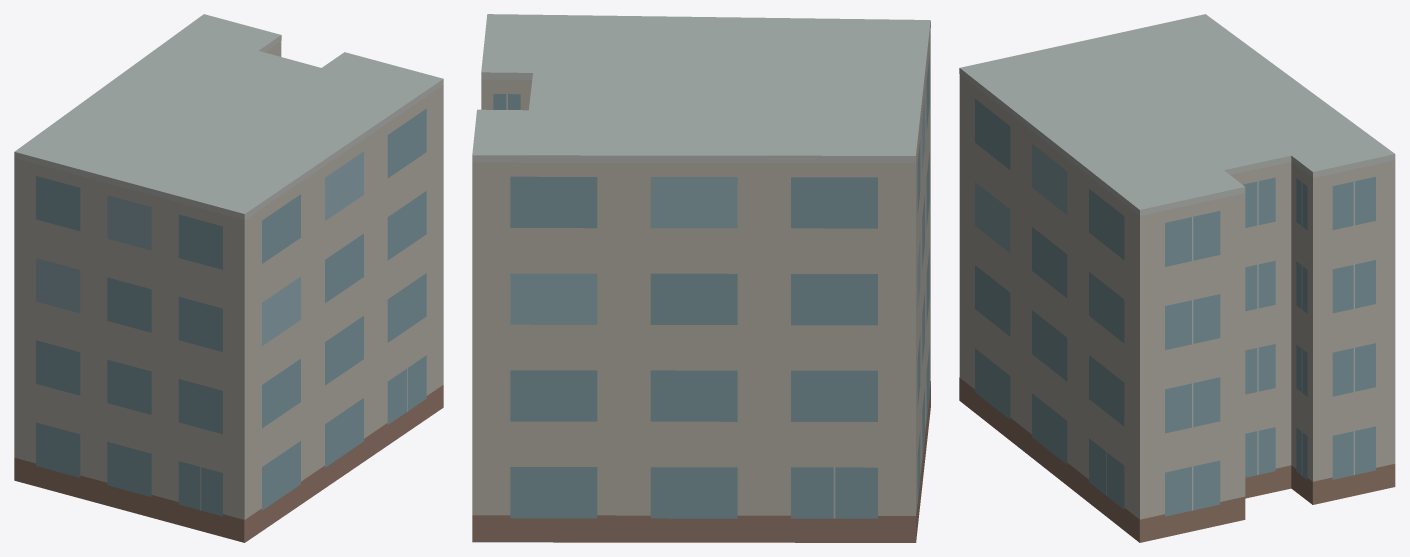
File: survey-upis-33001170.glb
3 views of the same model, side by side, from view 1: azimuth 30°, elevation 25°; view 2: azimuth 150°, elevation 25°; view 3: azimuth 270°, elevation 25° (orthographic). The views are drawn at different scales.
Parts seen in each view (by area): view 1: survey-upis-33001170.tmp; view 2: survey-upis-33001170.tmp; view 3: survey-upis-33001170.tmp.
Boxes of the visible parts, x1,y1,x2,y2 form: survey-upis-33001170.tmp: (14,14,443,542); survey-upis-33001170.tmp: (472,14,930,542); survey-upis-33001170.tmp: (959,14,1395,542).
Bounding box in the file's own units: 16.74 × 13.25 × 15.73.
